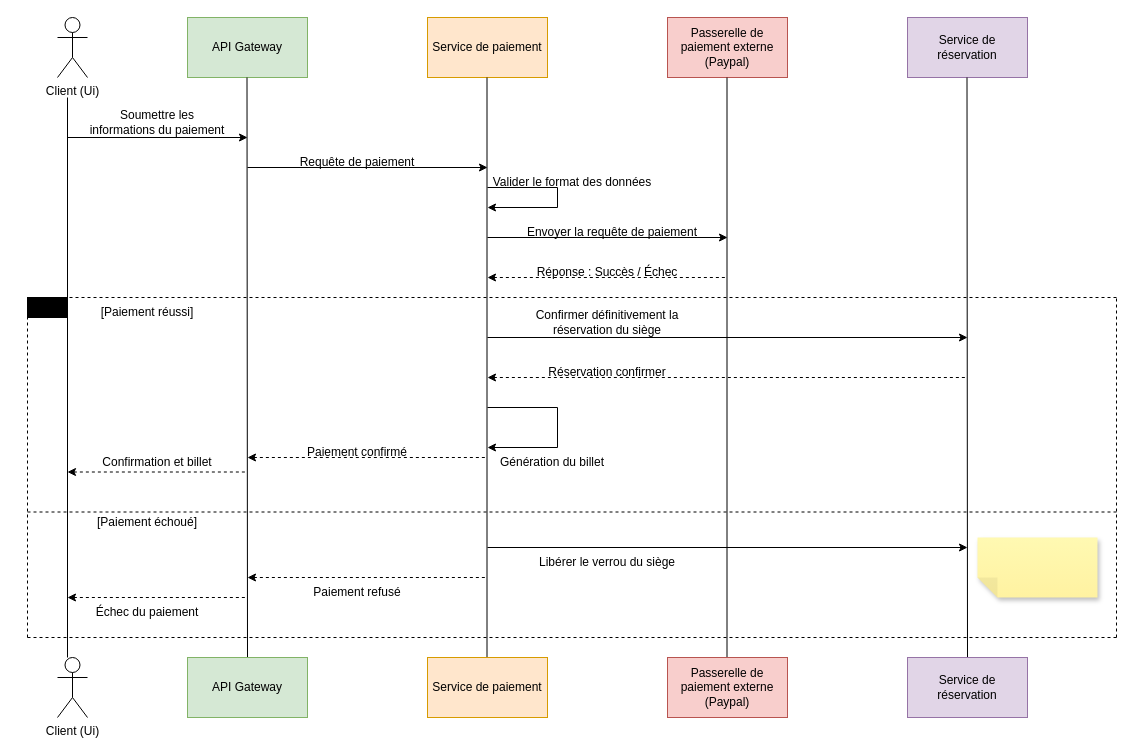
This 1136x756 diagram has some shape labels left out. Each missing label, with the centre of its shape:
"alt" goes at point (47, 307).
"Ou maintien du verrou jusqu'à expiration (5 min)" goes at point (1038, 568).
